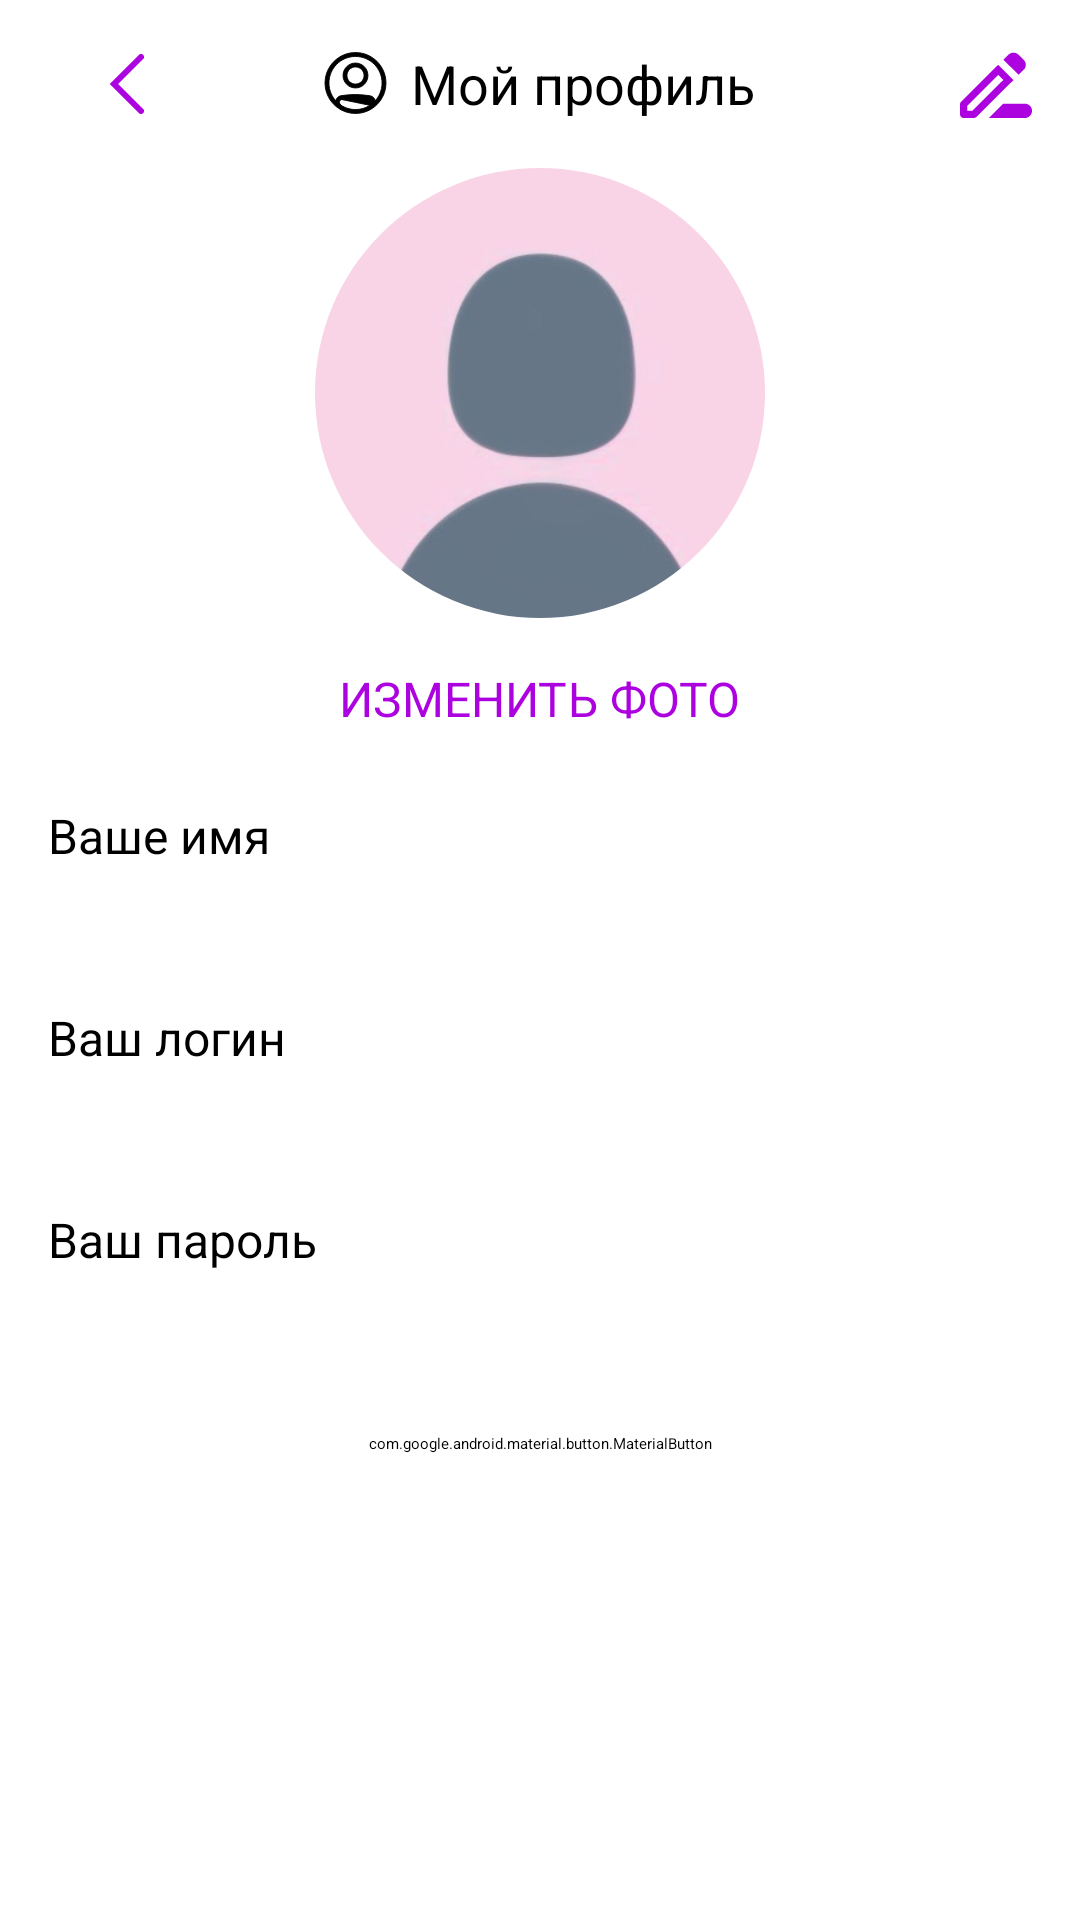

Screen size 1080px×1920px. Icon name, then its box in pixels as region(x1, y1, x2, y2):
edit: region(960, 52, 1032, 118)
